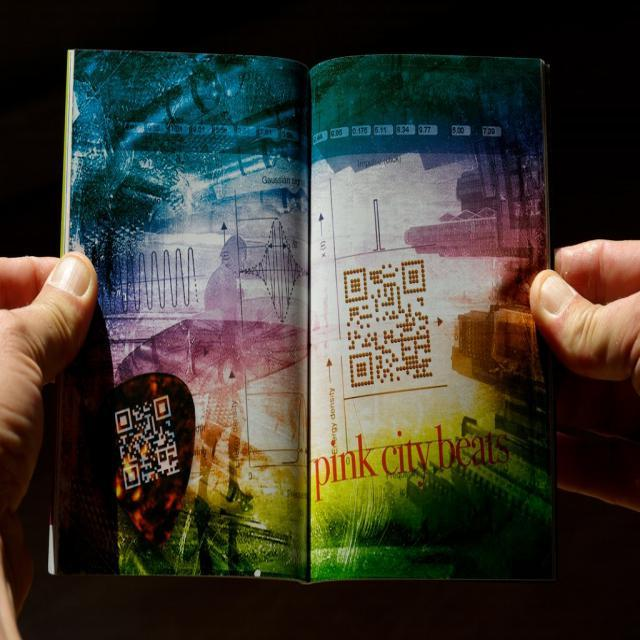qrcode: (344, 260, 434, 388), (116, 395, 181, 491)
